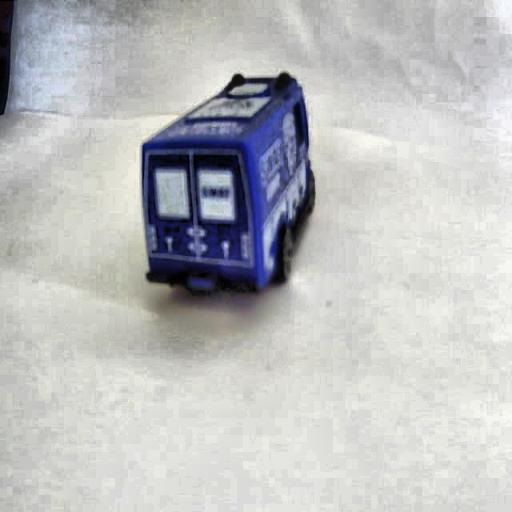police car: (138, 69, 315, 298)
